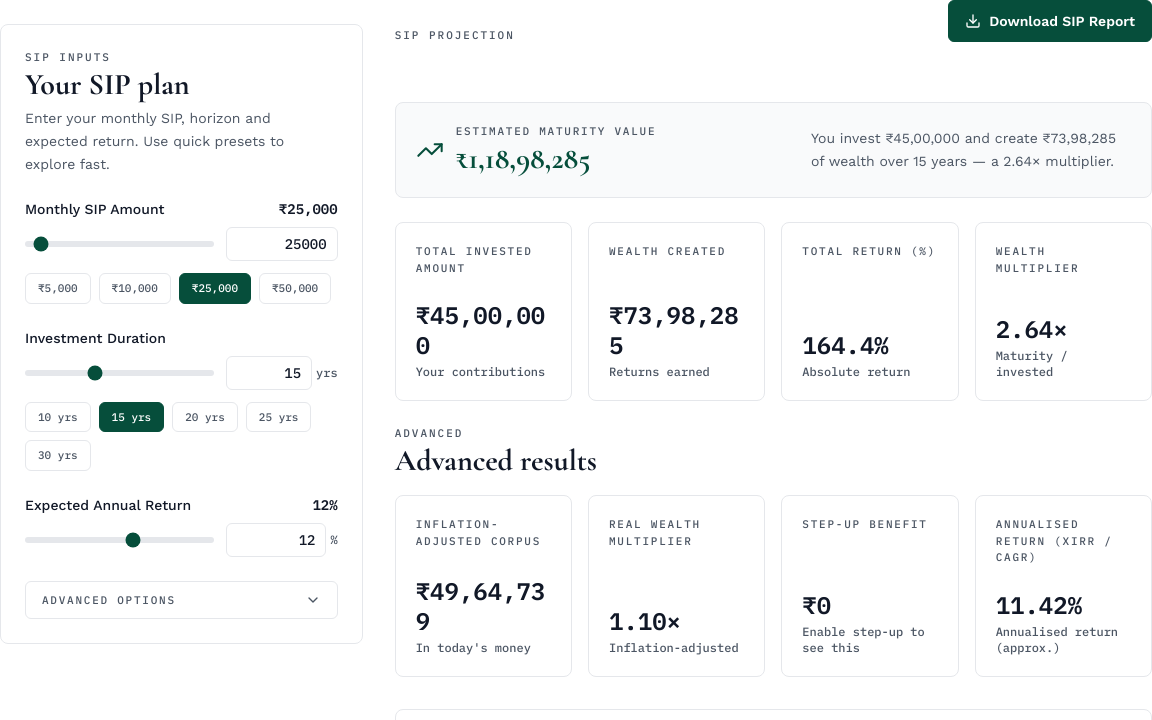
Scenario: SipCalculator (dedicated SIP experience) › starts in basic mode with no SWP/withdrawal/step-up fields, and reveals advanced on toggle
This screenshot has width=1152, height=720.
Expected: the slider with test id "field-sip-amount-slider" is shown, 25,241 -> 214,247
Expected: the slider with test id "field-sip-duration-slider" is shown, 25,370 -> 214,376
Click the button with test id "sip-advanced-toggle": (109,600) 25,581 -> 338,619
(page scrolled)
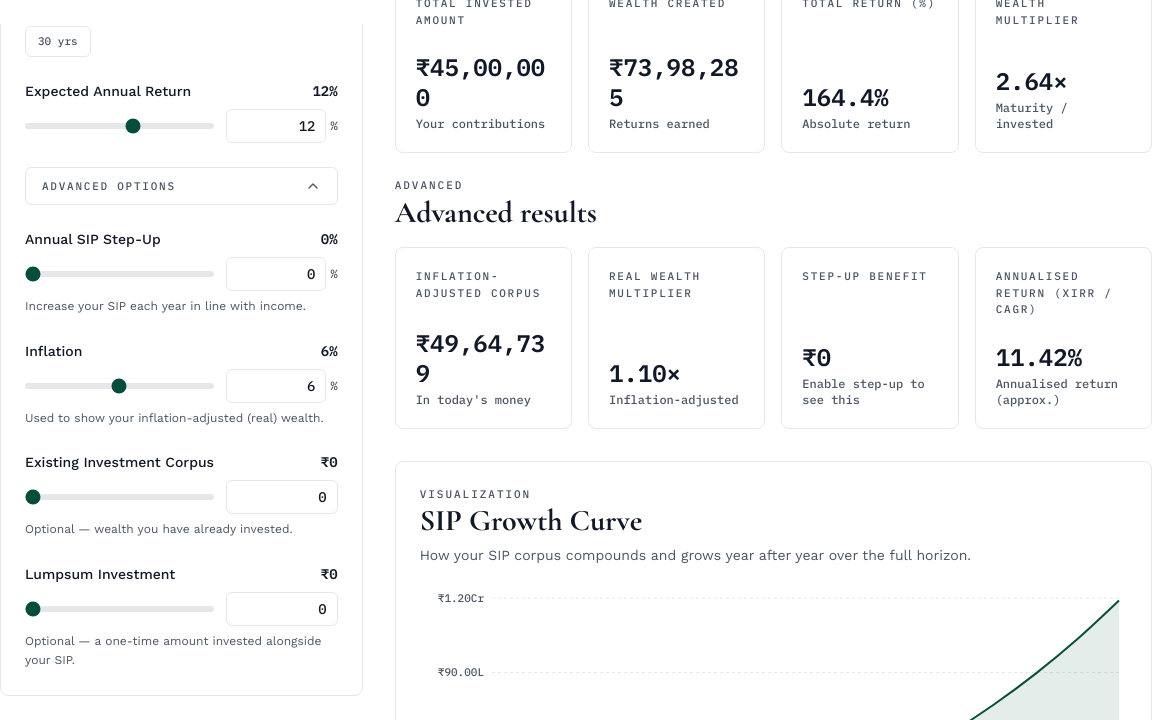
Expected: the element with test id "sip-advanced-fields" is shown, 25,229 -> 338,671
Expected: the slider with test id "field-sip-stepup-slider" is shown, 25,271 -> 214,277
Expected: the slider with test id "field-sip-inflation-slider" is shown, 25,383 -> 214,389
